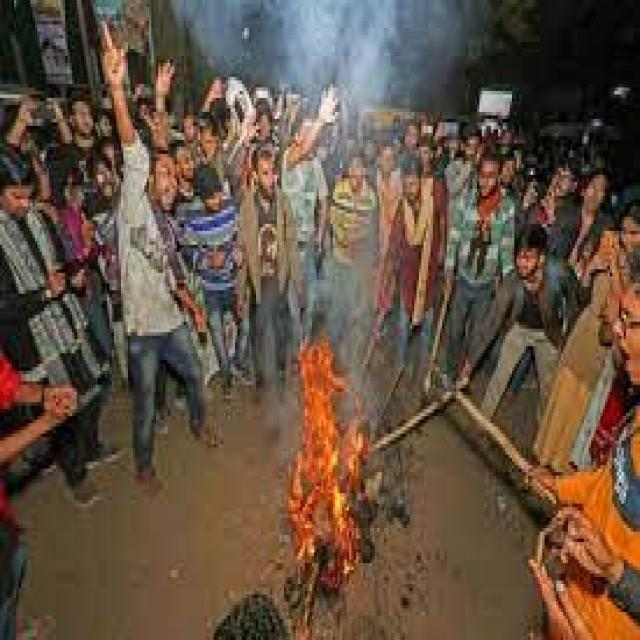Smoke: (283, 332, 371, 588)
